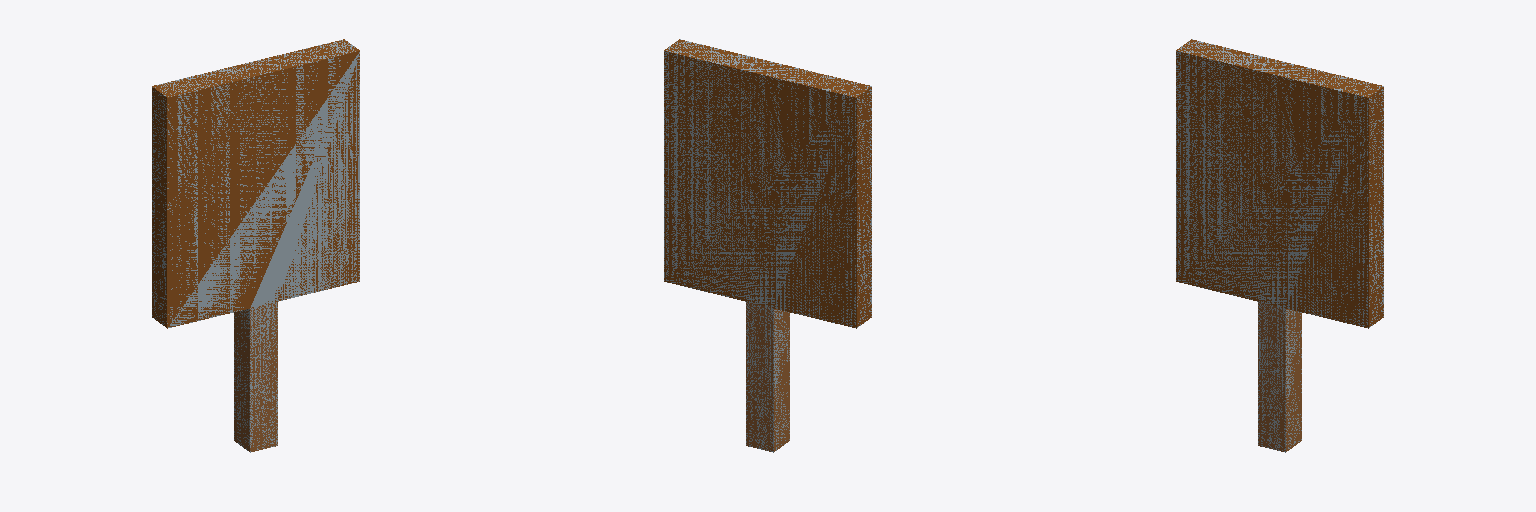
Rendered from target.obj.
The picture shows the model from 3 angles: view 1: azimuth 30°, elevation 25°; view 2: azimuth 150°, elevation 25°; view 3: azimuth 330°, elevation 25°; orthographic projection.
Visible parts, largest first — view 1: Mesh1 ______1_1 Model; view 2: Mesh1 ______1_1 Model; view 3: Mesh1 ______1_1 Model.
Part boxes in pixels (bbox=[...]): Mesh1 ______1_1 Model: bbox=[152, 39, 359, 452]; Mesh1 ______1_1 Model: bbox=[664, 39, 871, 452]; Mesh1 ______1_1 Model: bbox=[1176, 39, 1383, 452].
Size of the model in its own units: 700 by 1300 by 100.